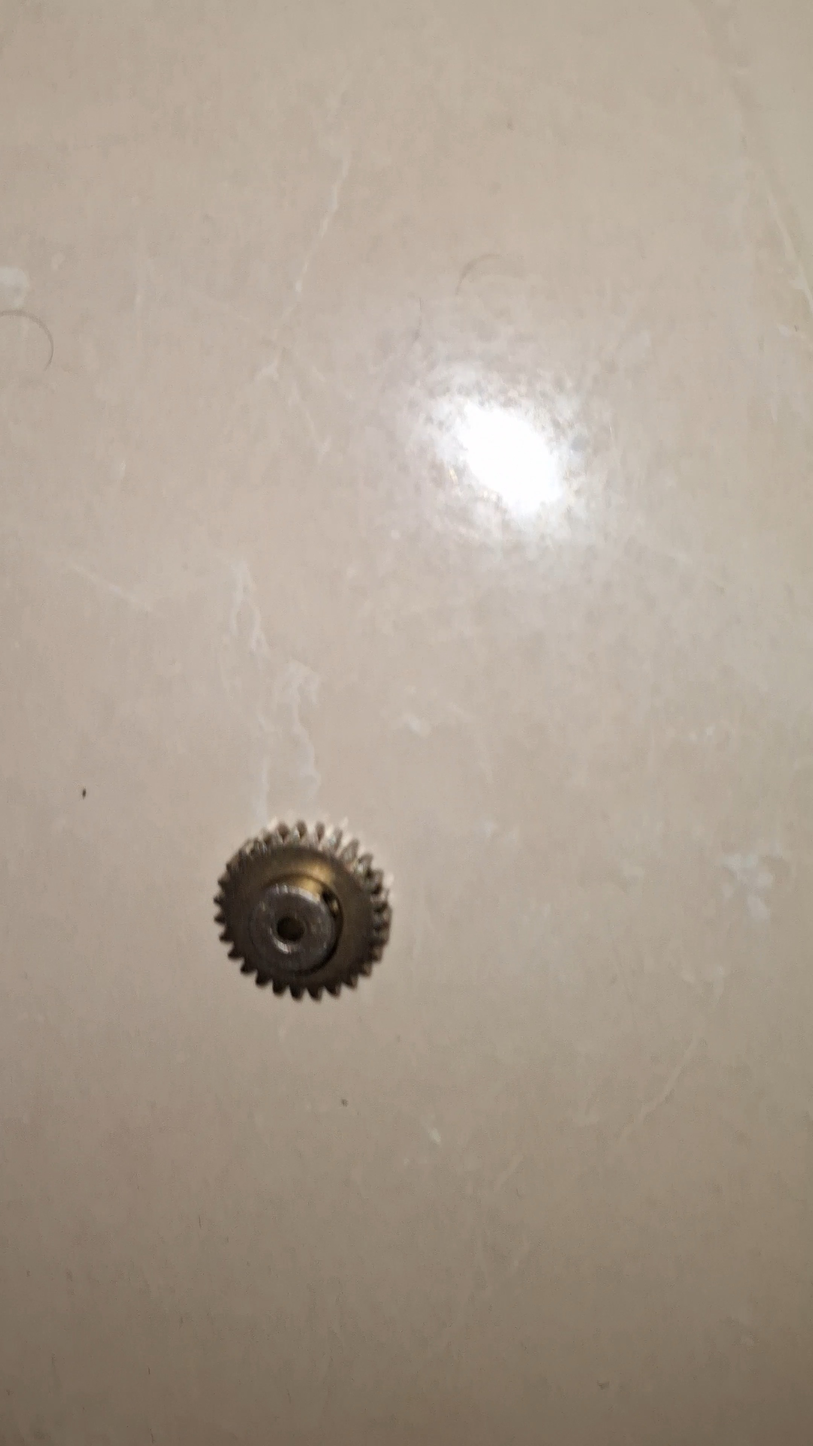spur gear: (215, 822, 390, 998)
